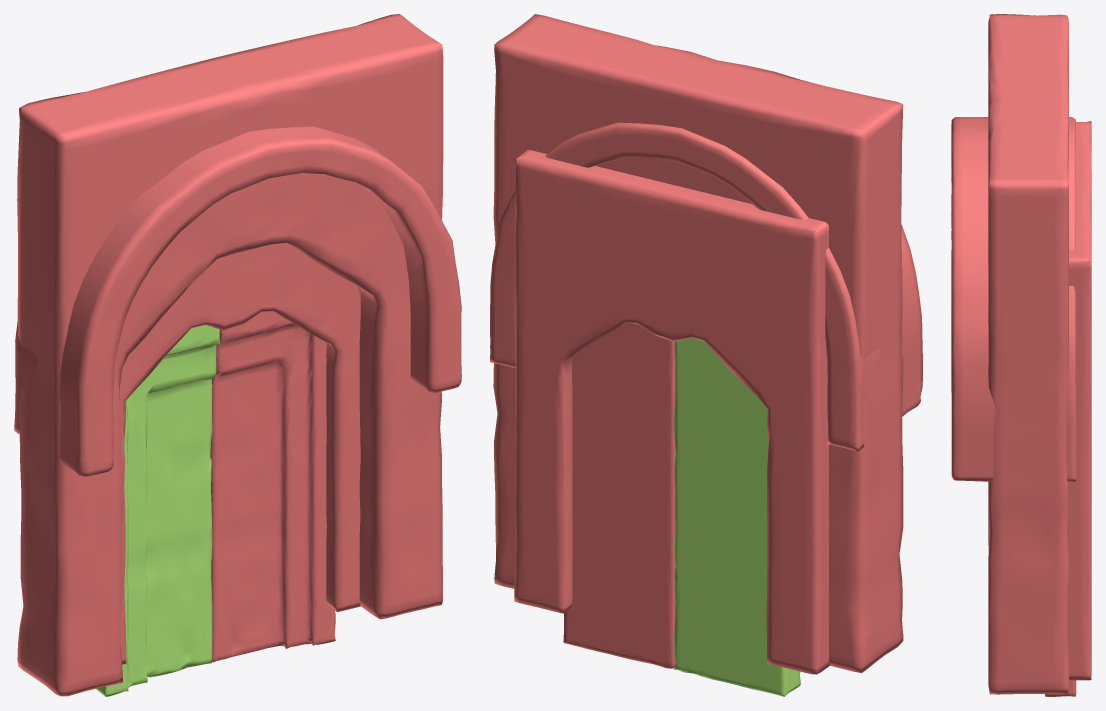
File: DoorAll-1.fbx
3 views of the same model, side by side, from view 1: azimuth 30°, elevation 25°; view 2: azimuth 150°, elevation 25°; view 3: azimuth 270°, elevation 25° (orthographic). The views are drawn at different scales.
Parts seen in each view (by area): view 1: pCube18, pCylinder3, pCube22, pCube21, pCube19; view 2: pCube19, pCube18, pCube22, pCube21, pCylinder3; view 3: pCube18, pCylinder3, pCube19.
Part boxes in pixels (bbox=[...]): pCube18: bbox=[17, 14, 443, 696]; pCylinder3: bbox=[14, 126, 461, 477]; pCube22: bbox=[210, 311, 335, 662]; pCube21: bbox=[96, 325, 220, 696]; pCube19: bbox=[119, 243, 360, 664]; pCube19: bbox=[514, 149, 829, 674]; pCube18: bbox=[493, 14, 903, 672]; pCube22: bbox=[563, 322, 675, 668]; pCube21: bbox=[674, 338, 800, 696]; pCylinder3: bbox=[490, 122, 922, 451]; pCube18: bbox=[988, 14, 1068, 694]; pCylinder3: bbox=[951, 117, 1075, 481]; pCube19: bbox=[1068, 121, 1091, 680].
Size of the model in its own units: 5 by 7.49 by 1.74.
